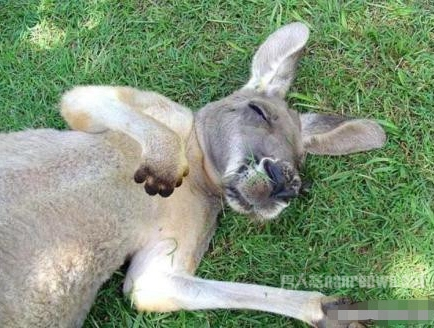kangaroo: (1, 14, 385, 328)
